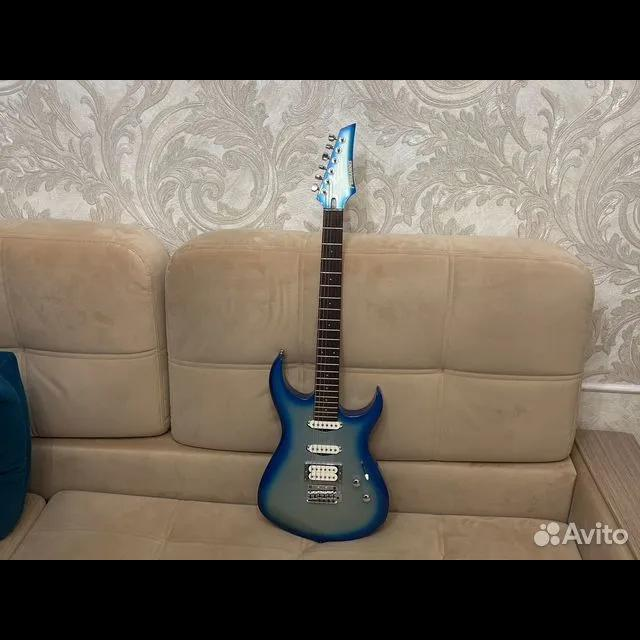Electric-Guitar: (258, 123, 390, 542)
